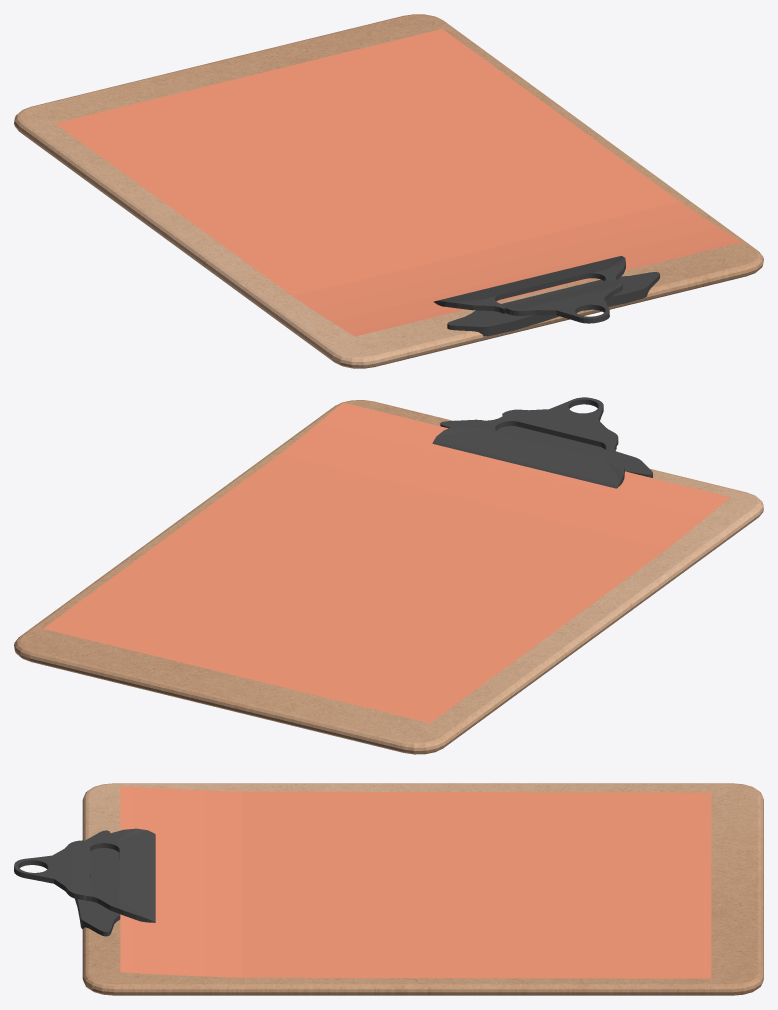
The model's file is clipBoard.fbx.
The picture shows the model from 3 angles, top to bottom: view 1: azimuth 30°, elevation 25°; view 2: azimuth 150°, elevation 25°; view 3: azimuth 270°, elevation 25°; orthographic projection.
Visible parts, largest first — view 1: PaperSheet, Base, MetalClip; view 2: PaperSheet, Base, MetalClip; view 3: PaperSheet, Base, MetalClip.
Boxes of the visible parts, x1,y1,x2,y2 form: PaperSheet: (55, 29, 741, 336); Base: (14, 14, 763, 368); MetalClip: (434, 256, 659, 336); PaperSheet: (43, 402, 730, 723); Base: (14, 400, 763, 754); MetalClip: (432, 397, 652, 488); PaperSheet: (120, 786, 711, 978); Base: (82, 783, 763, 995); MetalClip: (14, 828, 155, 936).
Bounding box in the file's own units: 47.28 × 3.3 × 72.93.
Materials: 3 (1 with a texture image).
